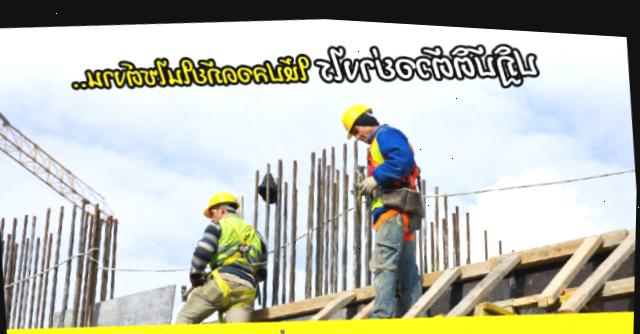helmet: (340, 93, 379, 137), (201, 186, 242, 218)
vest: (363, 121, 422, 233), (214, 210, 265, 276)
